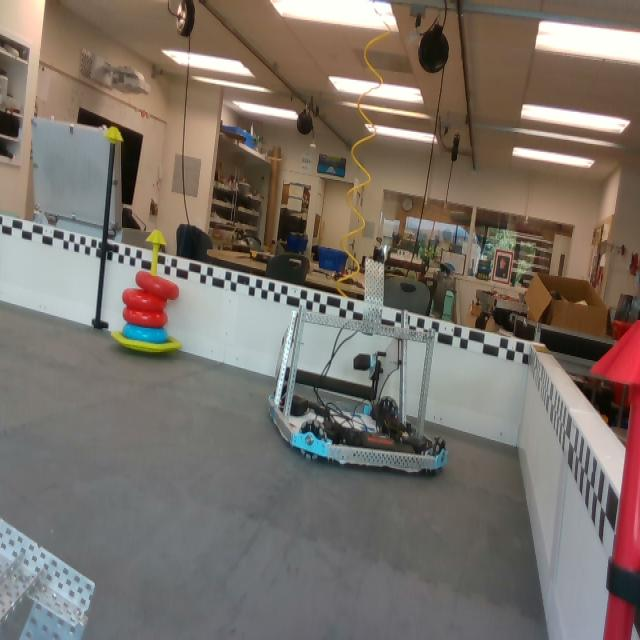Blue-Ring: (124, 326, 169, 345)
Mobile-Goal: (114, 230, 176, 357)
Red-Ring: (137, 271, 180, 298), (125, 290, 166, 308), (125, 311, 167, 327)
Yellow-Stake-Head: (145, 229, 167, 245), (104, 126, 124, 142)
zred-Stake-Head: (591, 320, 640, 385)
